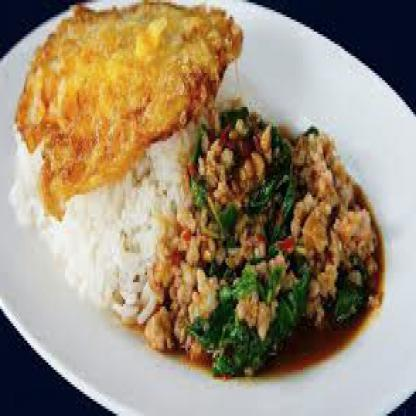Basil Rice: (5, 20, 378, 380)
